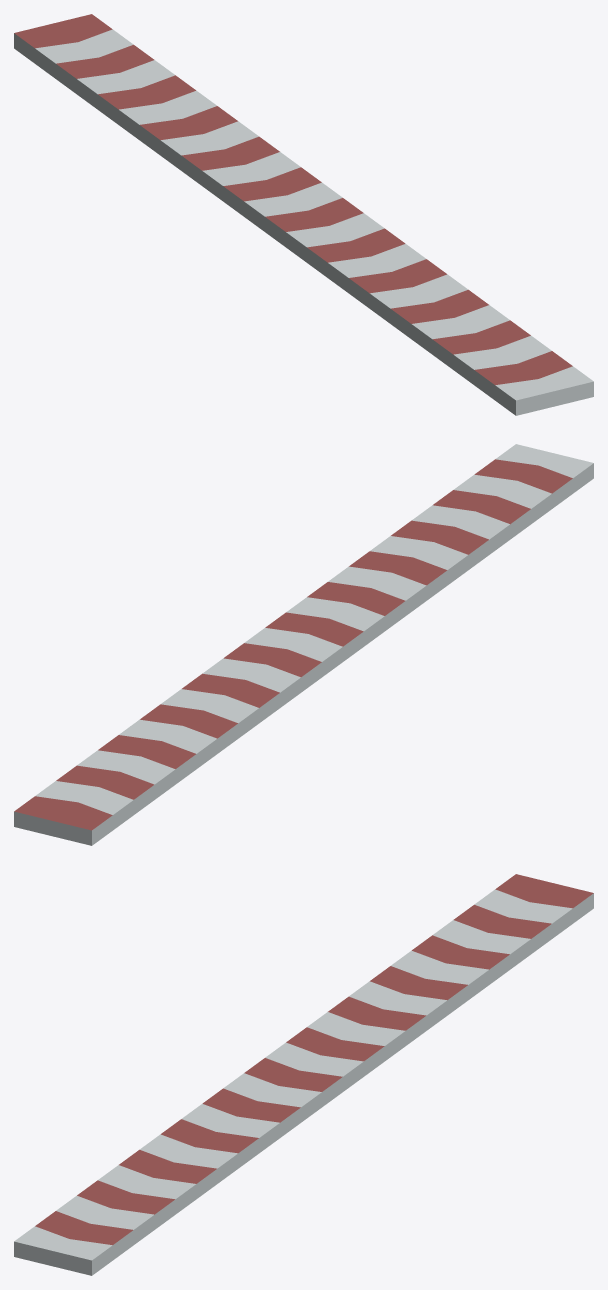
File: Road.fbx
The picture shows the model from 3 angles, top to bottom: view 1: azimuth 30°, elevation 25°; view 2: azimuth 150°, elevation 25°; view 3: azimuth 330°, elevation 25°; orthographic projection.
Parts seen in each view (by area): view 1: Cube; view 2: Cube; view 3: Cube.
Part boxes in pixels (x1=…): Cube: x1=14, y1=14, x2=593, y2=415; Cube: x1=14, y1=444, x2=593, y2=845; Cube: x1=14, y1=874, x2=593, y2=1275.
Bounding box in the file's own units: 300 × 56.72 × 3347.
